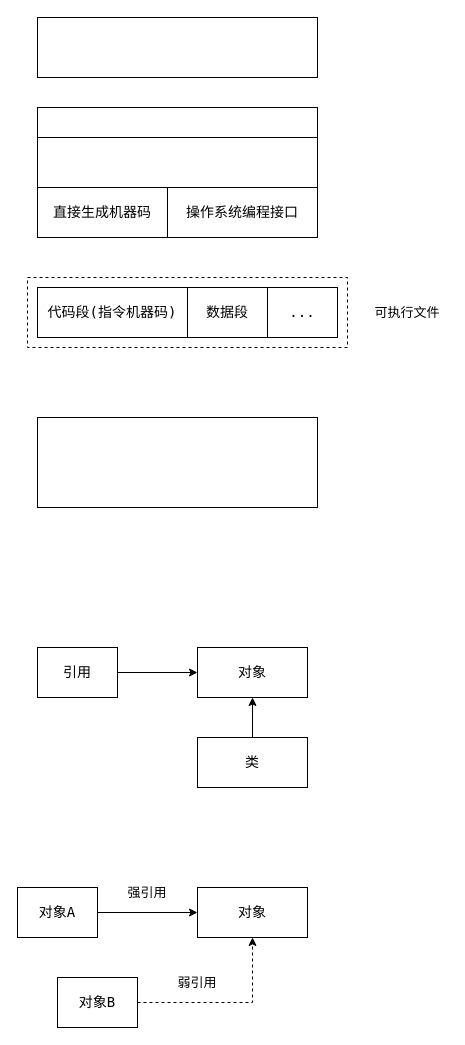
Image size: 465x1045. Some labels were removed from this diagram. The centre of each missing label's shape, as x and y in pixels:
"操作系统" belongs at (177,462).
"程序" belongs at (177,47).
"高级语言接口" belongs at (177,122).
"高级语言核心封装层" belongs at (177,162).
